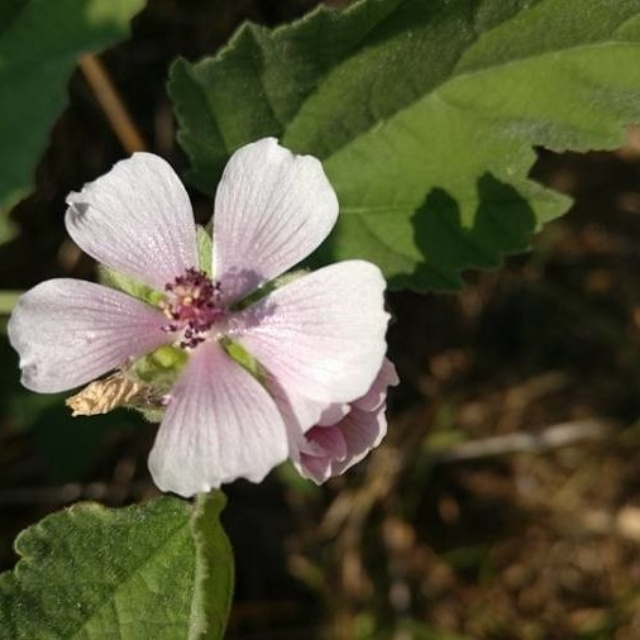obstacle: (25, 114, 377, 526)
